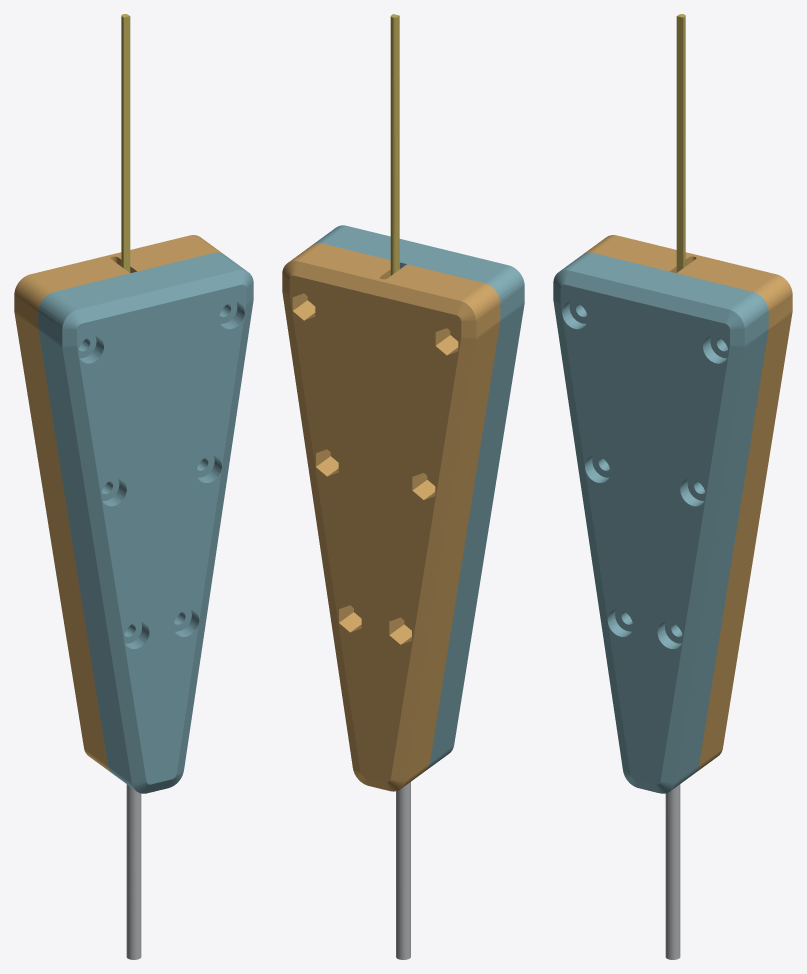
The model's file is rpw-holder.glb.
The picture shows the model from 3 angles, left to right: view 1: azimuth 30°, elevation 25°; view 2: azimuth 150°, elevation 25°; view 3: azimuth 330°, elevation 25°; orthographic projection.
Parts seen in each view (by area): view 1: enclosure2 1, enclosure 1, rod 1, piezo_sensor 1; view 2: enclosure 1, enclosure2 1, rod 1, piezo_sensor 1; view 3: enclosure2 1, enclosure 1, rod 1, piezo_sensor 1.
Boxes of the visible parts, x1,y1,x2,y2 form: enclosure2 1: (38,252,253,793); enclosure 1: (14,235,222,772); rod 1: (126,784,141,959); piezo_sensor 1: (121,14,130,272); enclosure 1: (282,243,500,791); enclosure2 1: (313,225,524,770); rod 1: (396,782,410,959); piezo_sensor 1: (390,14,399,275); enclosure2 1: (553,252,768,793); enclosure 1: (584,235,792,772); rod 1: (665,784,680,959); piezo_sensor 1: (676,14,685,272).
Bounding box in the file's own units: 0.06 × 0.28 × 0.03.
